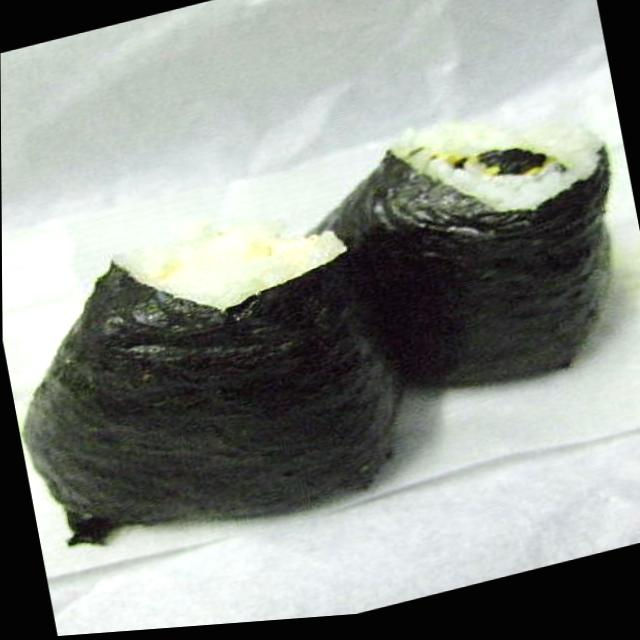米饭主食: (1, 169, 422, 583), (295, 94, 639, 424)
